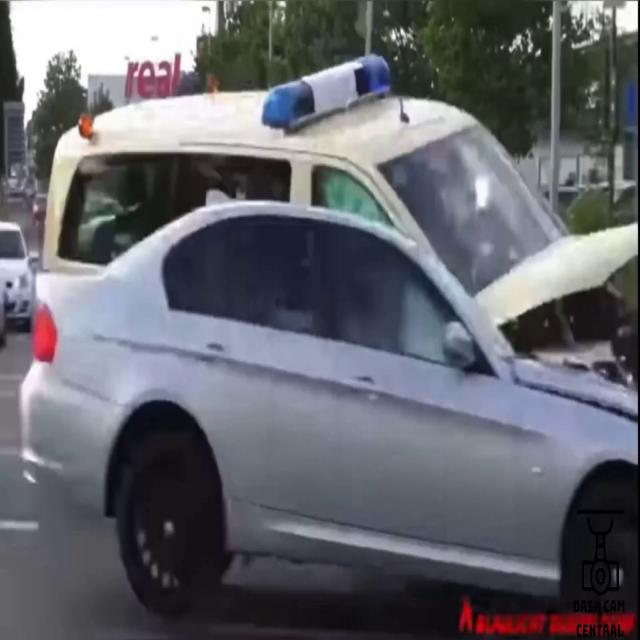accident: (21, 73, 640, 592)
